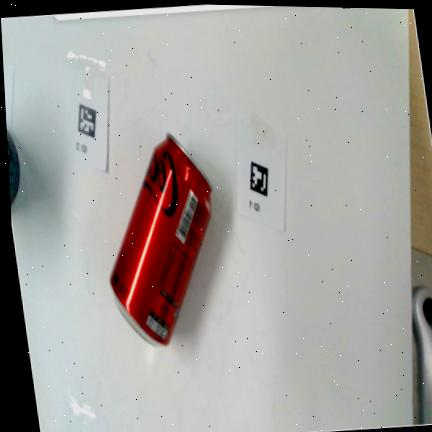can_coke_zero: (110, 133, 212, 345)
